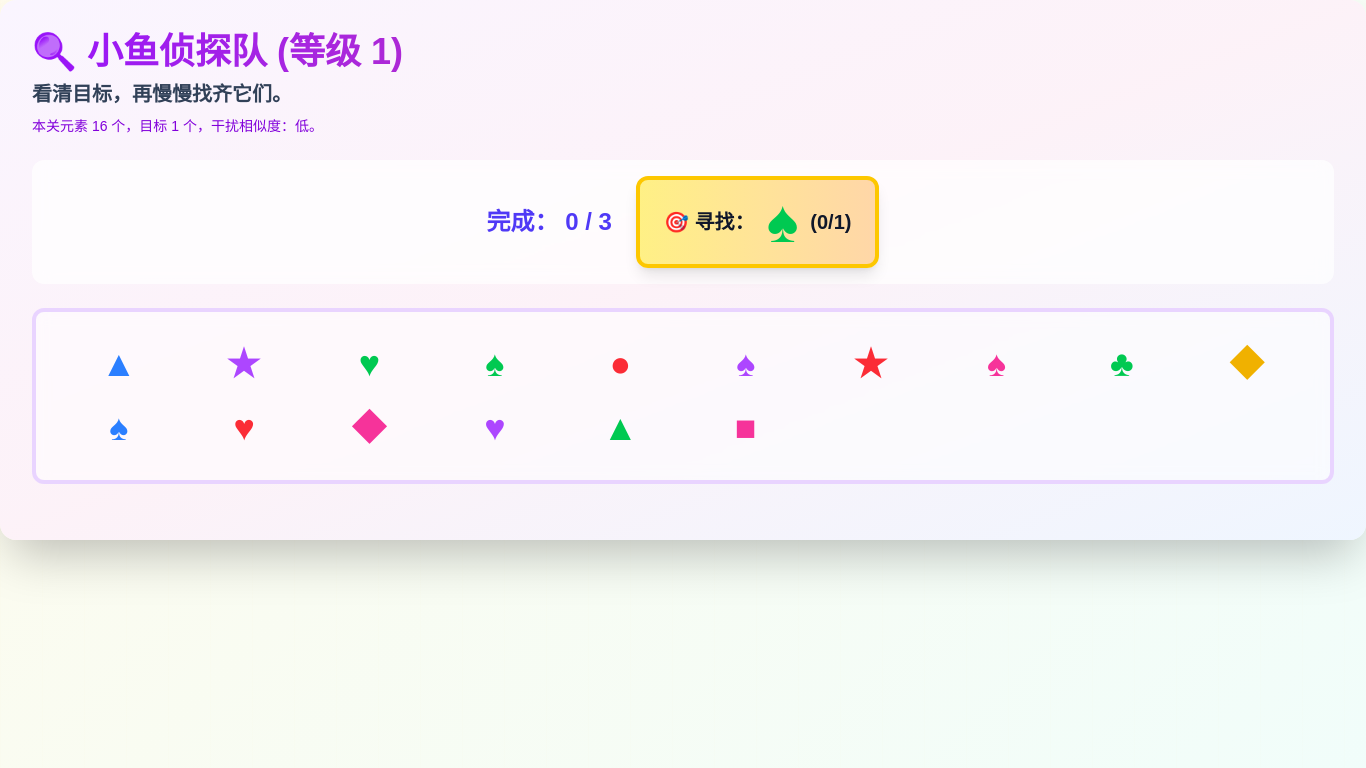
Test case: single-target round time starts when the round is shown
The width and height of the screenshot is (1366, 768).
Click the button named "目标图形".
click(495, 364)  # box [436,336,554,392]
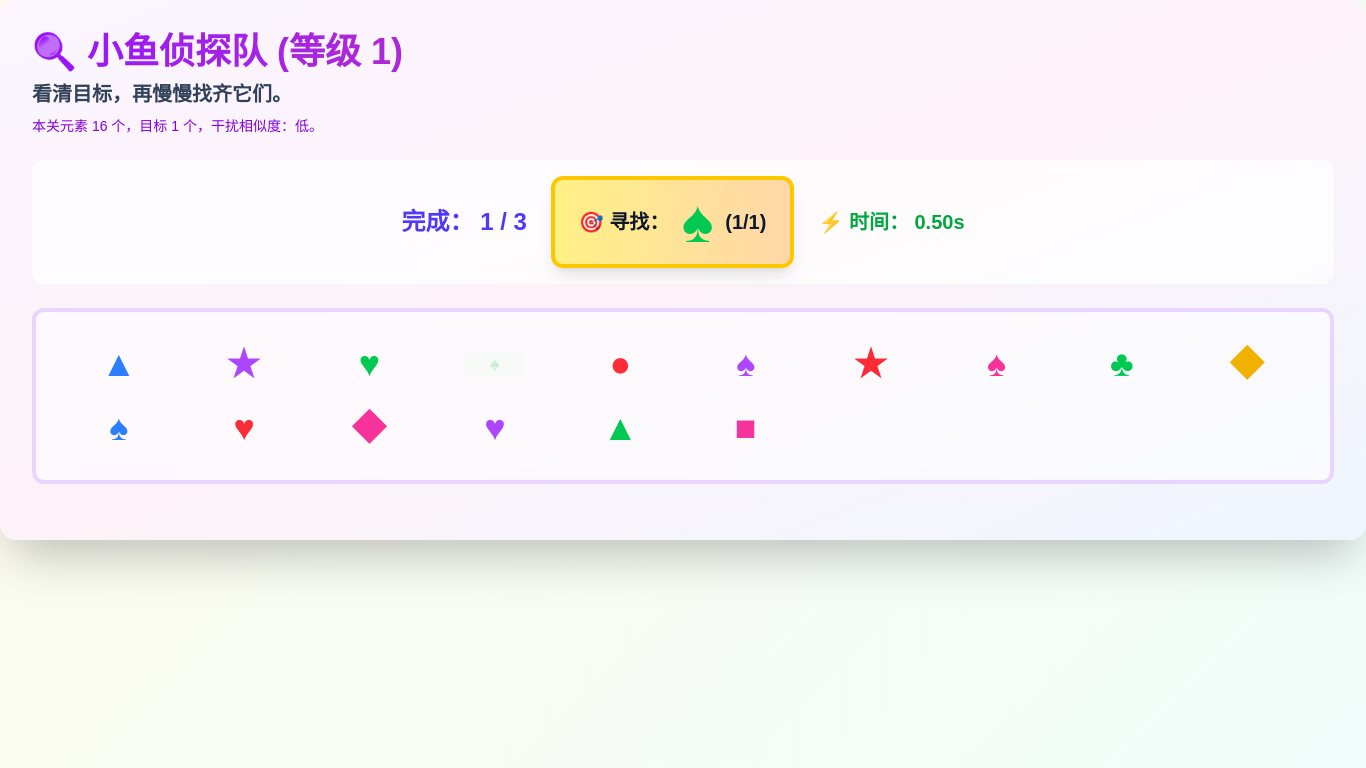
Now the text "⚡ 时间： 0.50s" is shown, box [818,208,964,236]
